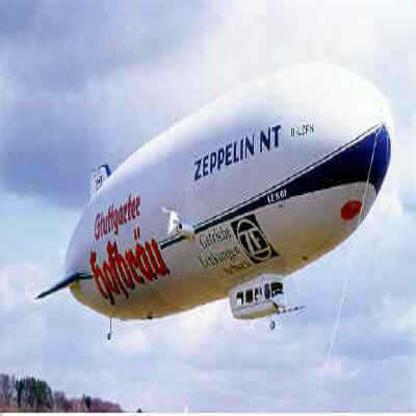Airship: (32, 63, 396, 334)
